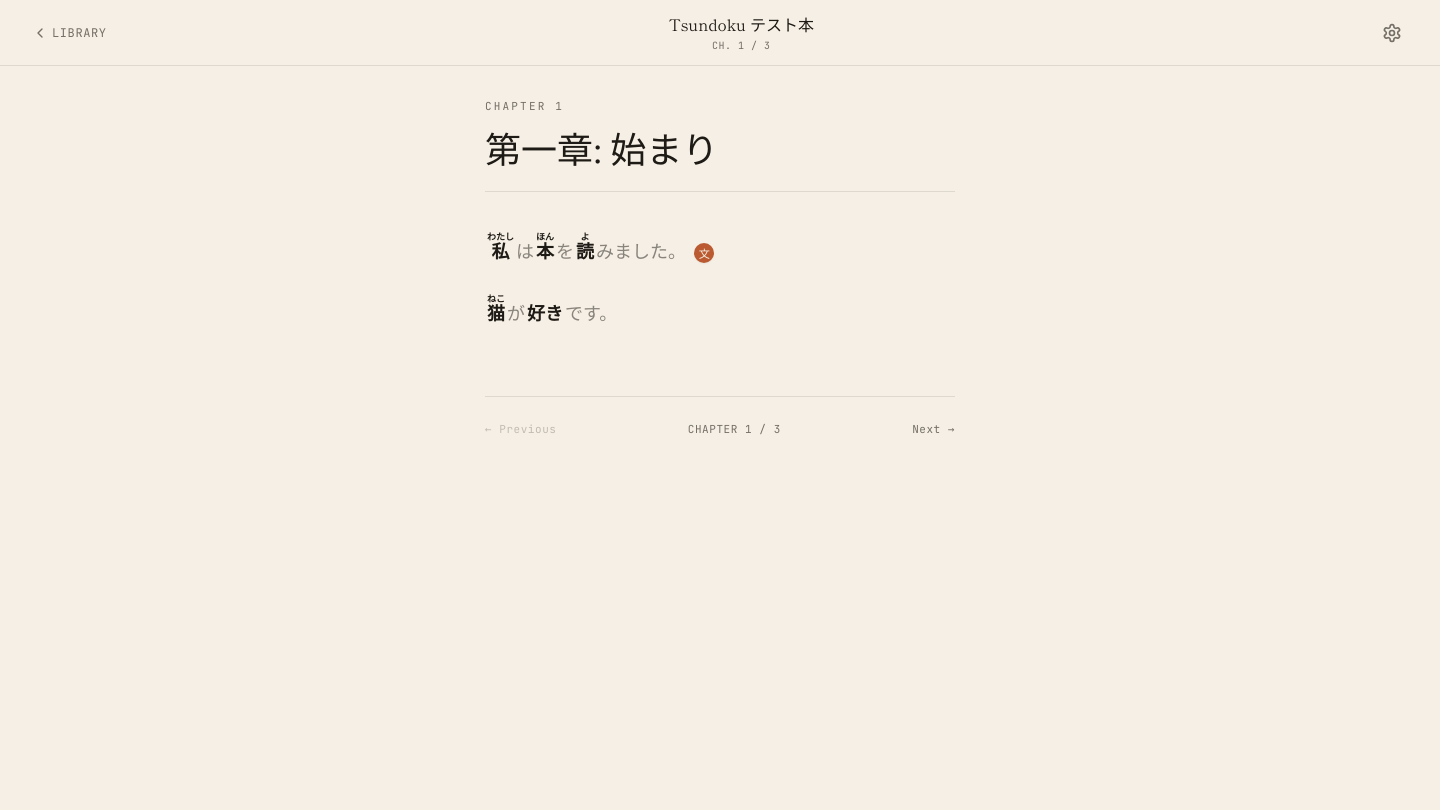
Test: Reader › shows the lemma in the popover header for a conjugated token
The width and height of the screenshot is (1440, 810).
Click the button "読 よ".
click(585, 250)  # box [574,232,596,270]
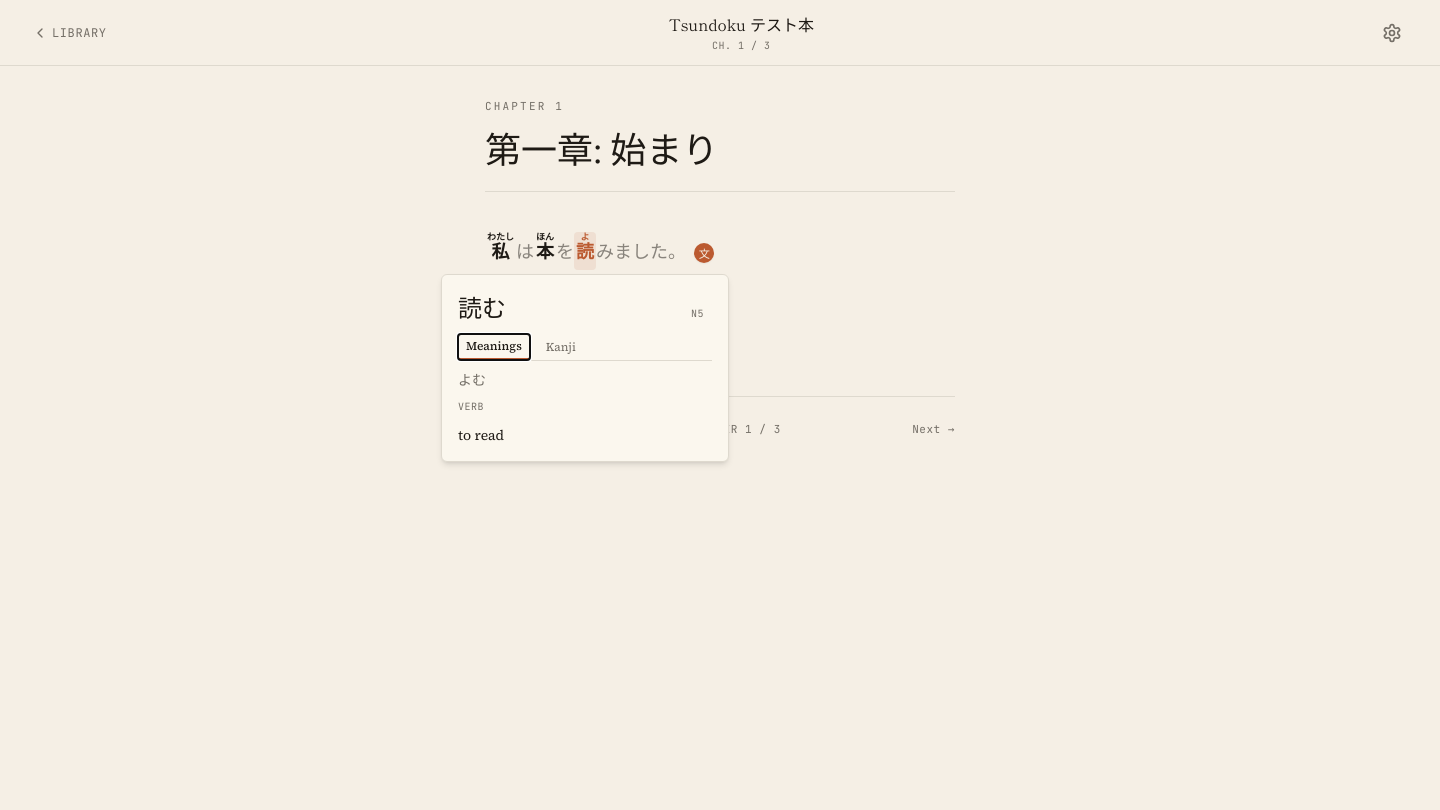
expect the heading "読む" is shown: met, box [458,291,506,323]
